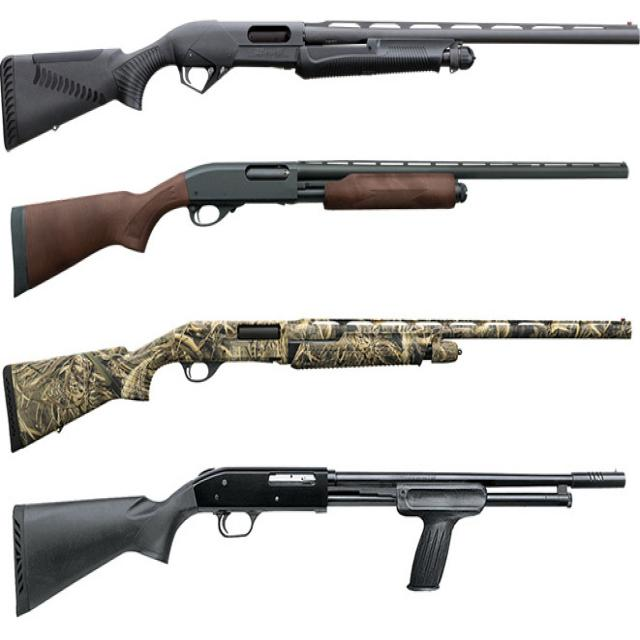ShotGun: (13, 468, 627, 617), (12, 160, 632, 298), (0, 21, 640, 154), (1, 319, 634, 453)
